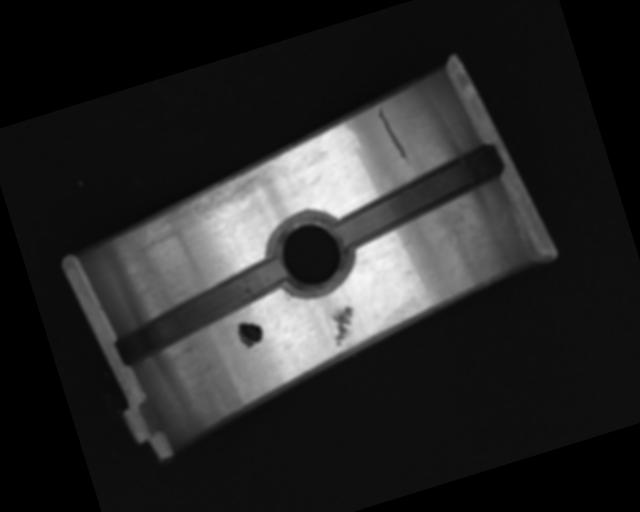blot: (234, 316, 267, 351)
bruise: (324, 304, 362, 348)
gap: (104, 255, 295, 367), (324, 142, 509, 250)
hole: (260, 203, 361, 303)
nick: (375, 101, 411, 171)
scratch: (118, 155, 293, 255)
